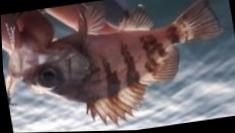fish: (7, 0, 222, 125)
